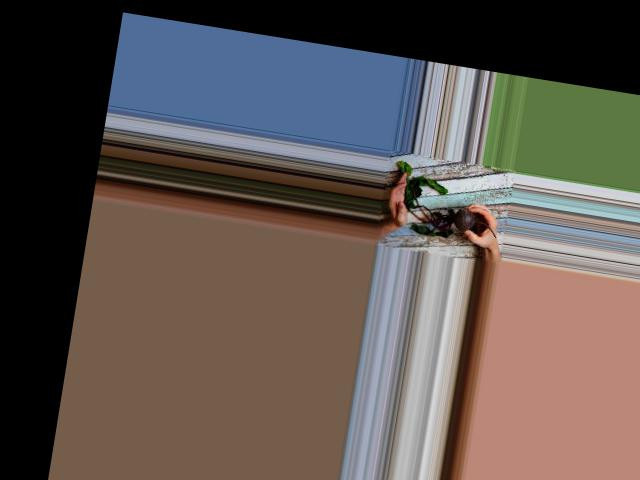beet: (387, 160, 506, 245)
